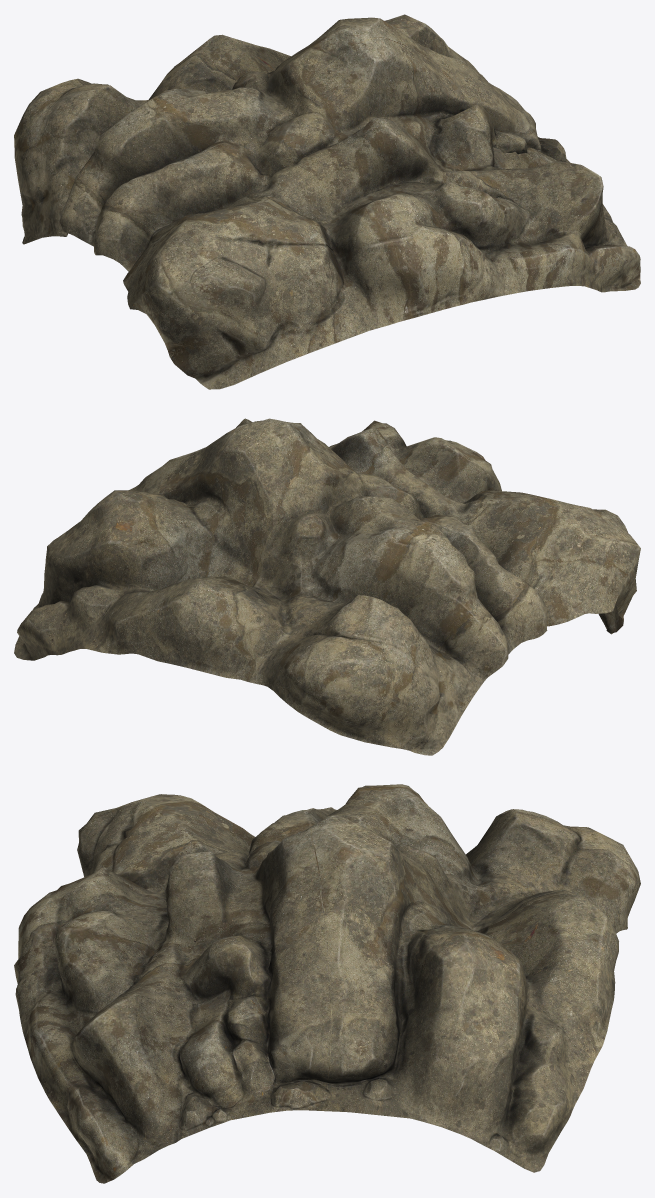
Rendered from cave_saltmine_jagged_wall_domed_01.dae.
3 views of the same model, one above another, from view 1: azimuth 30°, elevation 25°; view 2: azimuth 150°, elevation 25°; view 3: azimuth 270°, elevation 25° (orthographic). The views are drawn at different scales.
Visible parts, largest first — view 1: wall_1_domed; view 2: wall_1_domed; view 3: wall_1_domed.
Part boxes in pixels (<box>): wall_1_domed: <box>14,14,640,389</box>; wall_1_domed: <box>14,418,640,755</box>; wall_1_domed: <box>14,784,640,1183</box>.
Bounding box in the file's own units: 4 × 1.83 × 3.99.
